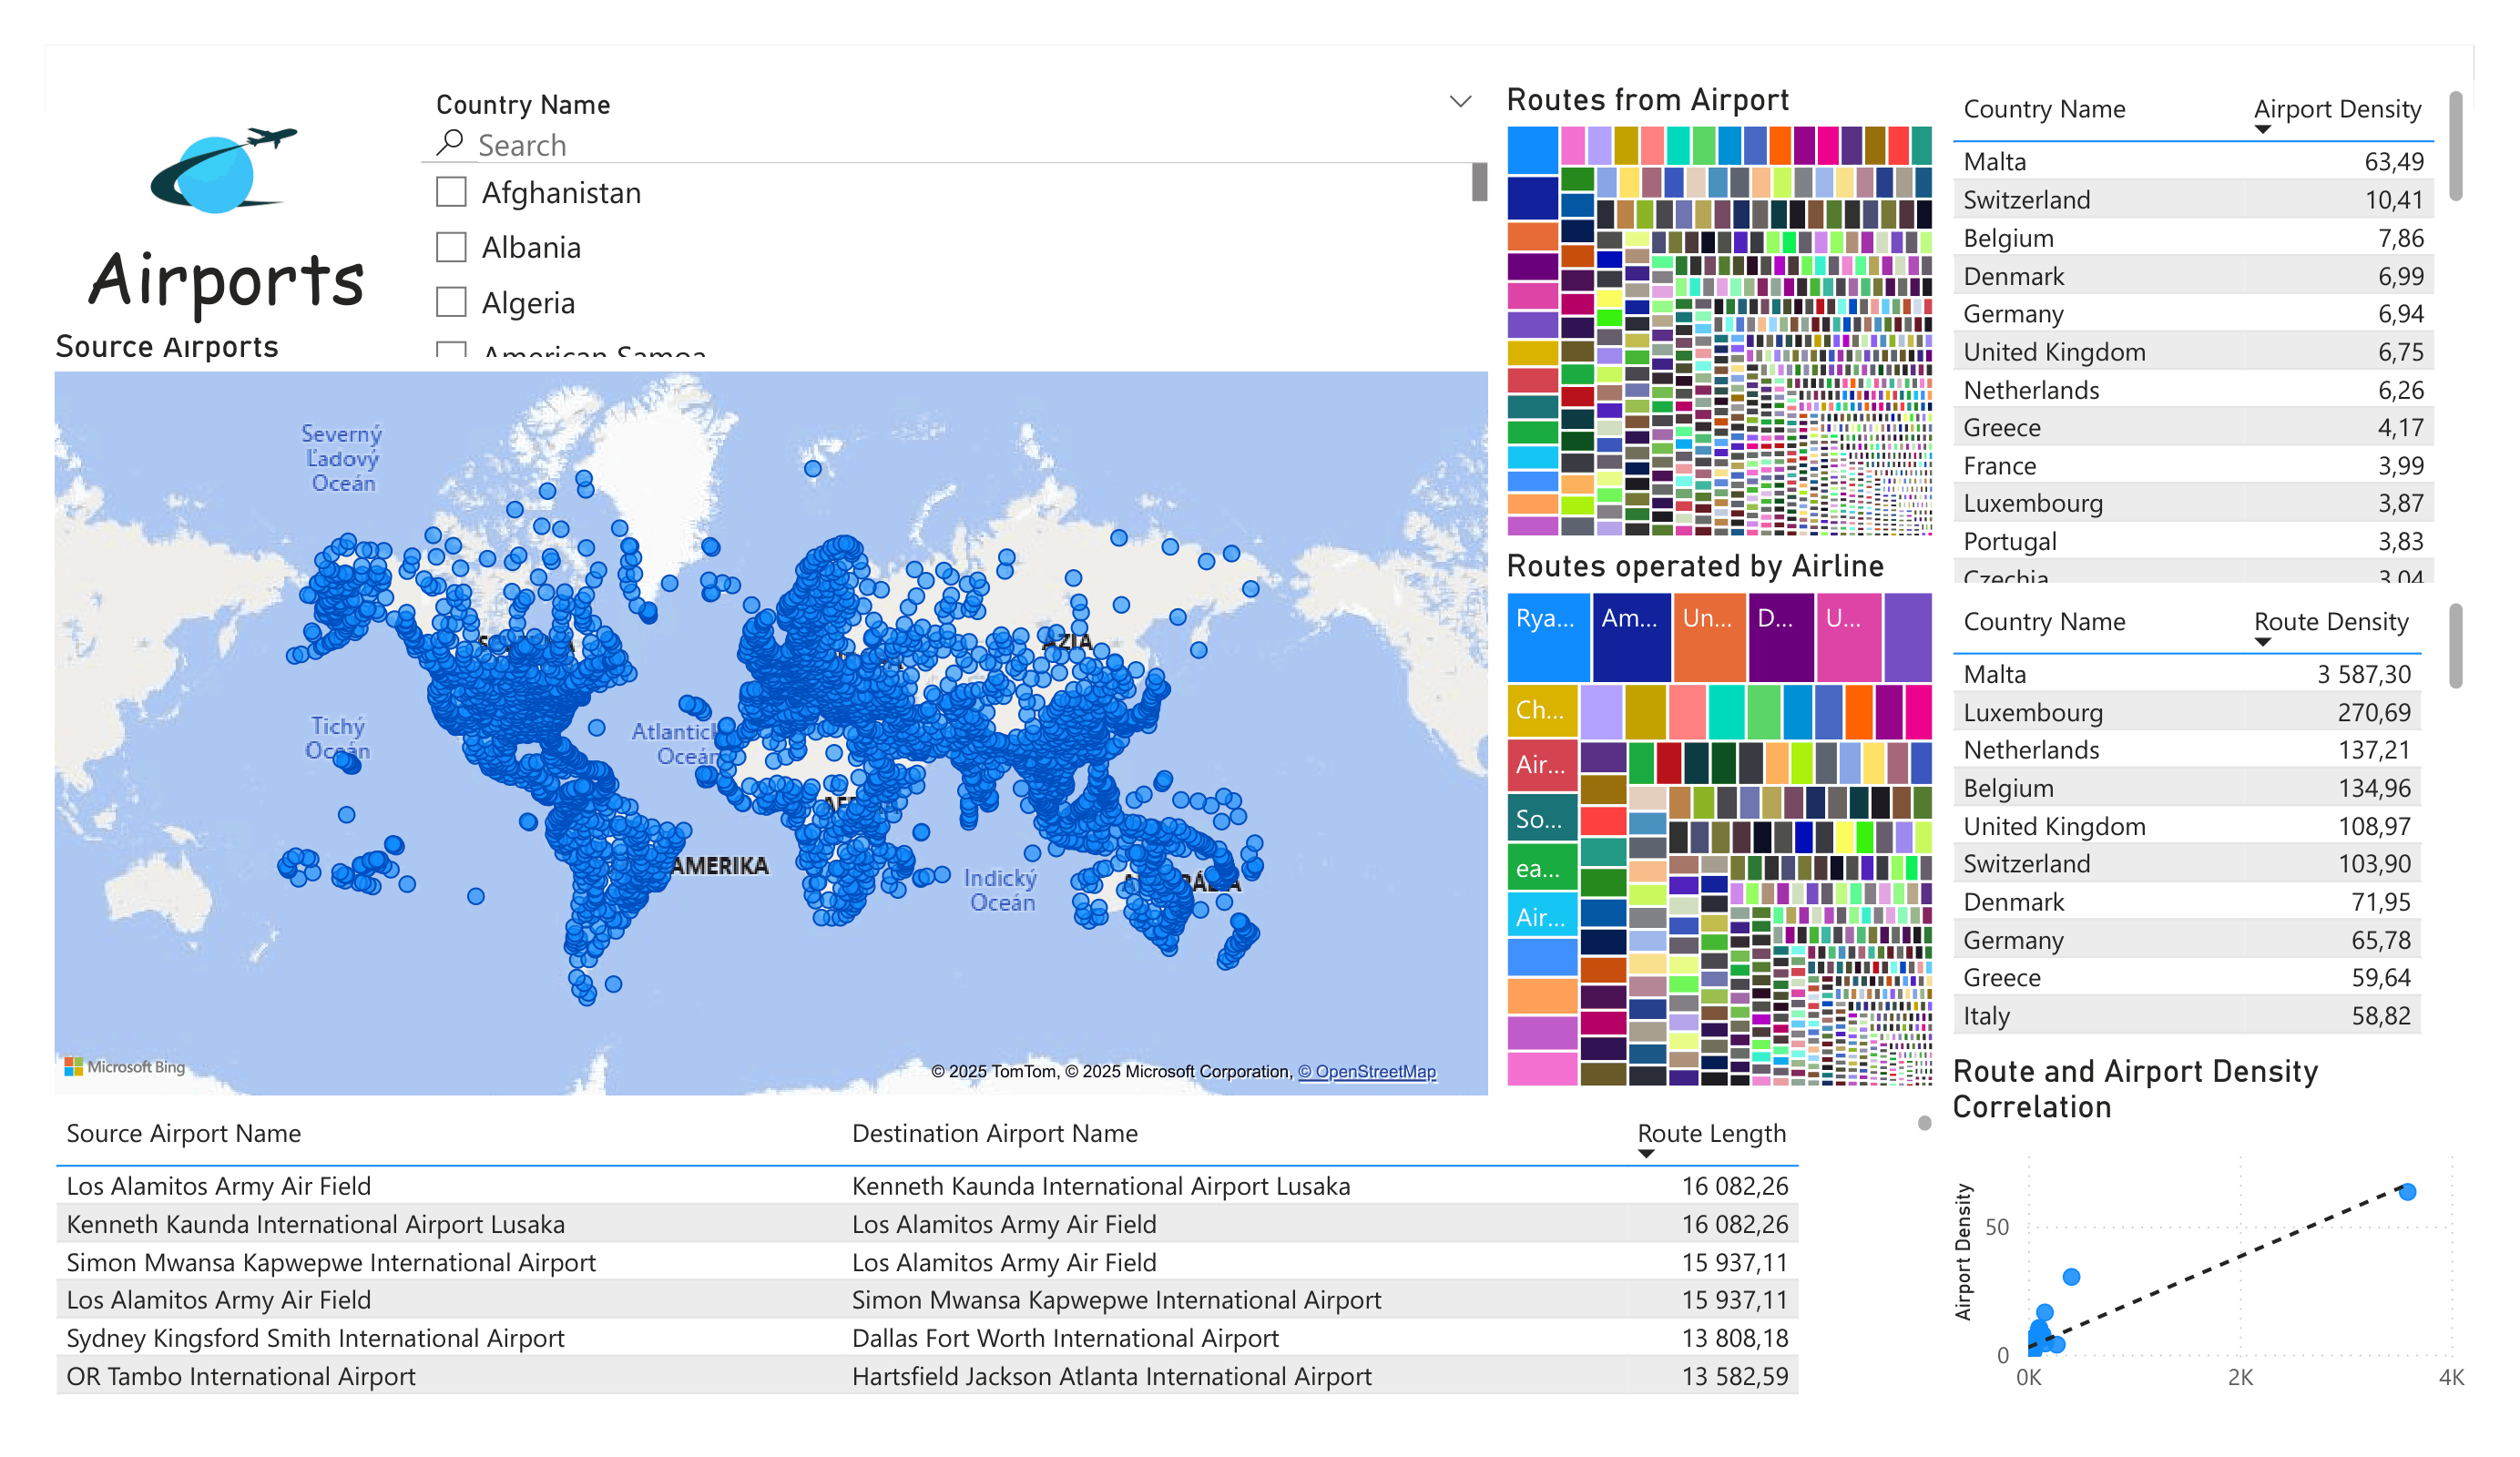

What the dashboard file says about the page in this screenshot:
{"tool":"powerbi","page":{"name":"Main Page","canvas":[1280,720],"ordinal":0},"visuals":[{"type":"image","box":[0,15.4,188,101.4],"z":0},{"type":"treemap","title":"Routes operated by Airline","fields":{"Group":["target airlines.name"],"Values":["target airlines.Airline Route Count"]},"box":[764.8,263.5,235.3,290.6],"z":1000},{"type":"treemap","title":"Routes from Airport","fields":{"Group":["target airports.name"],"Values":["target airports.Airport Route Count"]},"box":[764.8,17.8,235.3,245.7],"z":2000},{"type":"tableEx","fields":{"Values":["target routes.Src Name","target routes.Dest Name","target routes.Route Length"]},"box":[0,558.4,1000.1,161.6],"z":3000},{"type":"map","title":"Source Airports","fields":{"Y":["target routes.Src Lat"],"X":["target routes.Src Long"]},"box":[0,148.1,764.8,410.4],"z":4000},{"type":"tableEx","fields":{"Values":["target countries.name","target countries.Airport Density"]},"box":[1000.1,18.4,280.1,269.7],"z":5000},{"type":"textbox","box":[15.4,90.3,172.6,63.3],"z":6000},{"type":"tableEx","fields":{"Values":["target countries.name","target countries.Route Density"]},"box":[1000.1,288.1,280.1,241.4],"z":7000},{"type":"scatterChart","title":"Route and Airport Density Correlation","fields":{"X":["target countries.Route Density"],"Y":["target countries.Airport Density"]},"box":[1000.1,529.6,280.1,190.4],"z":8000},{"type":"slicer","fields":{"Values":["target countries.name"]},"box":[192.9,18.4,571.9,150.5],"z":9000}]}

Visuals, with their boxes on the page's 1280x720 design canvas (x1, y1, x2, y2). These are canvas units, not pixel positions in the 2520x1457 screenshot, which may show the page scaled, cropped or inside an application window:
image: 0:15:188:117
"Routes operated by Airline" treemap: 765:264:1000:554
"Routes from Airport" treemap: 765:18:1000:264
tableEx - target routes.Src Name x target routes.Dest Name: 0:558:1000:720
"Source Airports" map: 0:148:765:558
tableEx - target countries.name x target countries.Airport Density: 1000:18:1280:288
textbox: 15:90:188:154
tableEx - target countries.name x target countries.Route Density: 1000:288:1280:530
"Route and Airport Density Correlation" scatterChart: 1000:530:1280:720
slicer - target countries.name: 193:18:765:169
